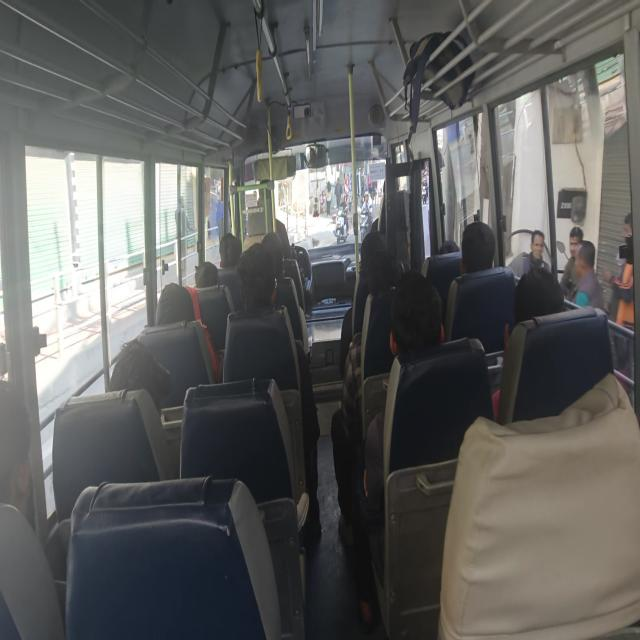person: (0, 370, 46, 525), (109, 324, 173, 411), (388, 270, 450, 356), (509, 258, 563, 344), (459, 216, 501, 296), (239, 238, 277, 300), (154, 279, 194, 330), (359, 218, 388, 268), (370, 249, 399, 293), (217, 230, 246, 269), (253, 177, 286, 207), (261, 227, 284, 270), (194, 259, 220, 296), (378, 174, 408, 202), (438, 230, 458, 257)
